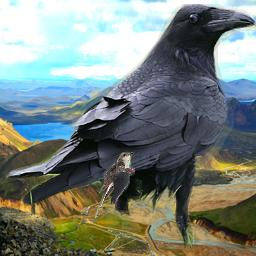Crow: (5, 4, 256, 248)
Cuckoo: (95, 152, 134, 219)
Woodpecker: (108, 166, 135, 204)
